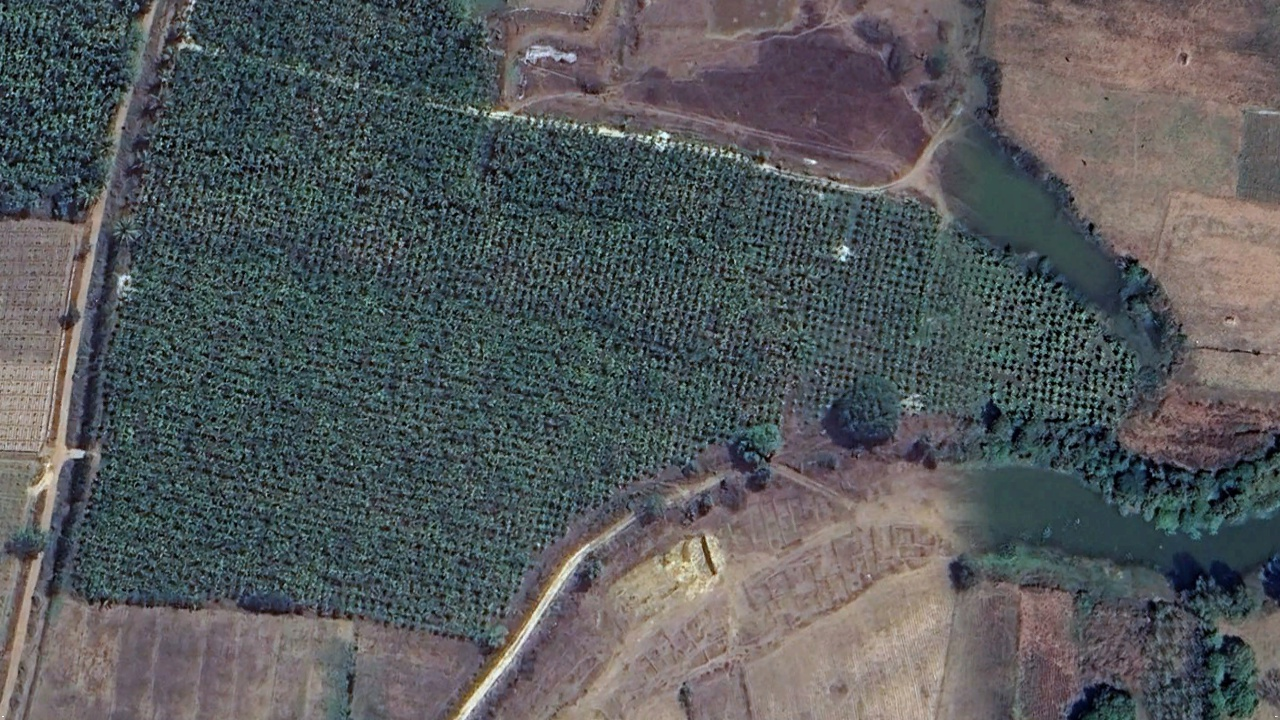arecanut: (2, 4, 940, 646)
